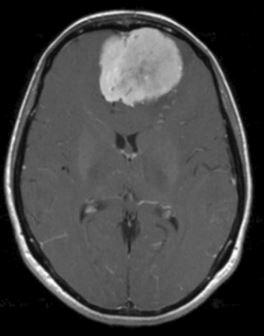Tumour-Meningioma: (92, 29, 189, 116)
